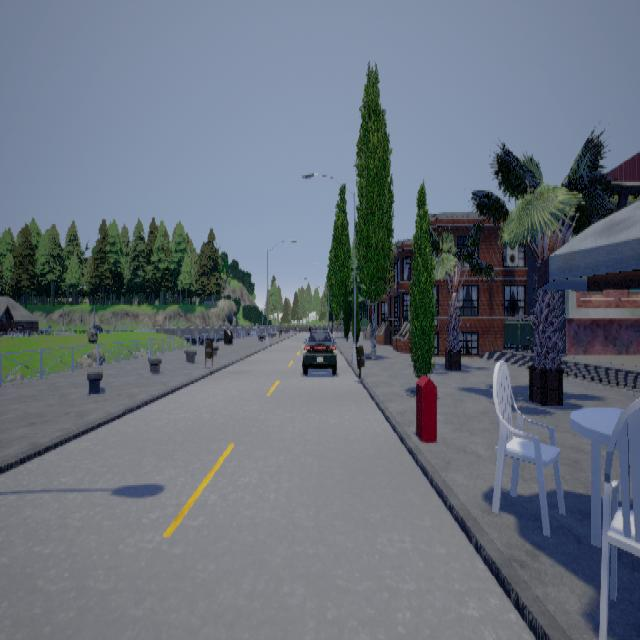vehicle: (301, 325, 336, 374)
